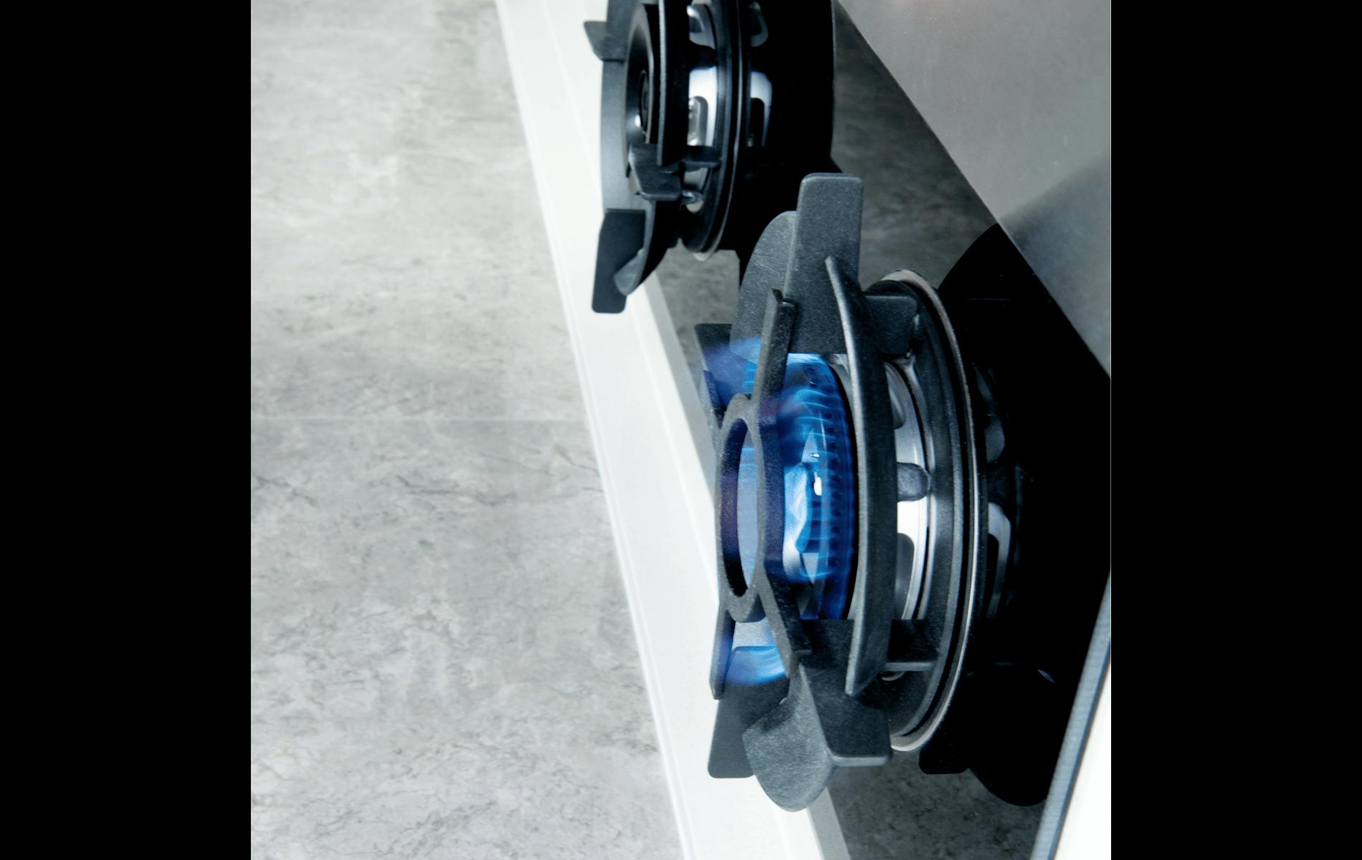controlled_fire: (654, 310, 947, 720)
